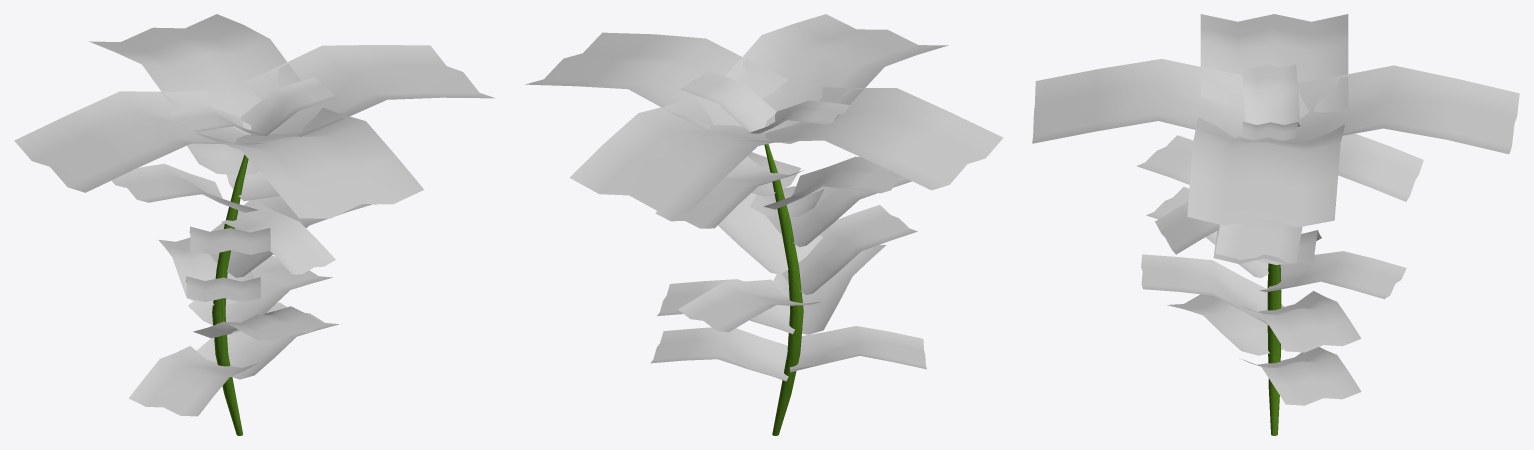
File: grass.fbx
3 views of the same model, side by side, from view 1: azimuth 30°, elevation 25°; view 2: azimuth 150°, elevation 25°; view 3: azimuth 270°, elevation 25° (orthographic). The views are drawn at different scales.
Visible parts, largest first — view 1: polySurface2, polySurface1, polySurface4, polySurface3, pPlane17, pPlane19, pPlane9, pPlane13, pPlane6, pPlane16, pPlane12, stem (+7 smaller); view 2: polySurface4, polySurface1, polySurface3, polySurface2, pPlane15, pPlane16, pPlane17, pPlane11, pPlane8, stem, pPlane18, pPlane9 (+7 smaller); view 3: polySurface3, polySurface4, polySurface2, polySurface1, pPlane12, pPlane11, pPlane13, pPlane16, pPlane18, pPlane7, pPlane14, pPlane17 (+6 smaller).
Boxes of the visible parts, x1=… form: polySurface2: x1=195, y1=107, x2=424, y2=218; polySurface1: x1=14, y1=91, x2=262, y2=192; polySurface4: x1=89, y1=14, x2=301, y2=145; polySurface3: x1=243, y1=45, x2=494, y2=136; pPlane17: x1=128, y1=346, x2=258, y2=416; pPlane19: x1=221, y1=202, x2=335, y2=274; pPlane9: x1=111, y1=163, x2=258, y2=212; pPlane13: x1=188, y1=255, x2=332, y2=332; pPlane6: x1=240, y1=77, x2=338, y2=135; pPlane16: x1=196, y1=302, x2=338, y2=379; pPlane12: x1=193, y1=306, x2=324, y2=340; stem: x1=212, y1=155, x2=248, y2=435; polySurface4: x1=569, y1=97, x2=794, y2=212; polySurface1: x1=741, y1=87, x2=1003, y2=190; polySurface3: x1=525, y1=32, x2=788, y2=128; polySurface2: x1=725, y1=14, x2=948, y2=143; pPlane15: x1=781, y1=205, x2=917, y2=294; pPlane16: x1=650, y1=327, x2=788, y2=381; pPlane17: x1=788, y1=326, x2=926, y2=372; pPlane11: x1=678, y1=279, x2=821, y2=332; pPlane8: x1=718, y1=193, x2=822, y2=274; stem: x1=764, y1=144, x2=803, y2=435; pPlane18: x1=655, y1=156, x2=803, y2=228; pPlane9: x1=764, y1=156, x2=903, y2=209; polySurface3: x1=1187, y1=117, x2=1344, y2=227; polySurface4: x1=1287, y1=65, x2=1519, y2=154; polySurface2: x1=1032, y1=59, x2=1250, y2=143; polySurface1: x1=1200, y1=14, x2=1348, y2=118; pPlane12: x1=1141, y1=254, x2=1268, y2=324; pPlane11: x1=1259, y1=251, x2=1406, y2=299; pPlane13: x1=1242, y1=291, x2=1361, y2=352; pPlane16: x1=1239, y1=347, x2=1361, y2=405; pPlane18: x1=1338, y1=134, x2=1423, y2=201; pPlane7: x1=1241, y1=64, x2=1300, y2=127; pPlane14: x1=1215, y1=219, x2=1302, y2=264; pPlane17: x1=1167, y1=294, x2=1283, y2=355.
Size of the model in its own units: 2.42 by 1.91 by 2.41.
